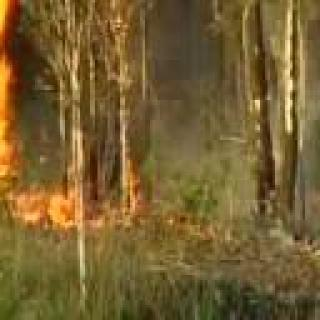fire: (8, 182, 95, 234), (0, 0, 26, 172)
